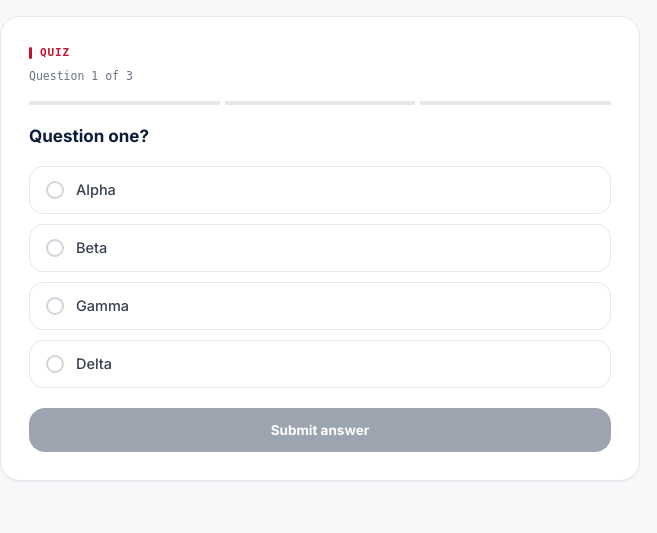
it: QuizWidget server-graded mode (t_79a92b83) › keeps the question open with an error when grading fails (no local key fallback)
The image size is (657, 533).
Step 1. Click the radio button labelled "Alpha" → (96, 190), box [29,166,611,214]
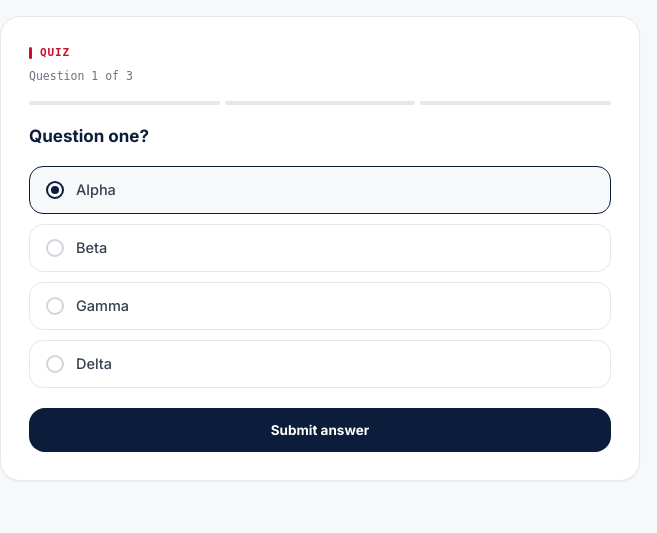
Step 2. Click the button "Submit answer" → (320, 430), box [29,408,611,452]
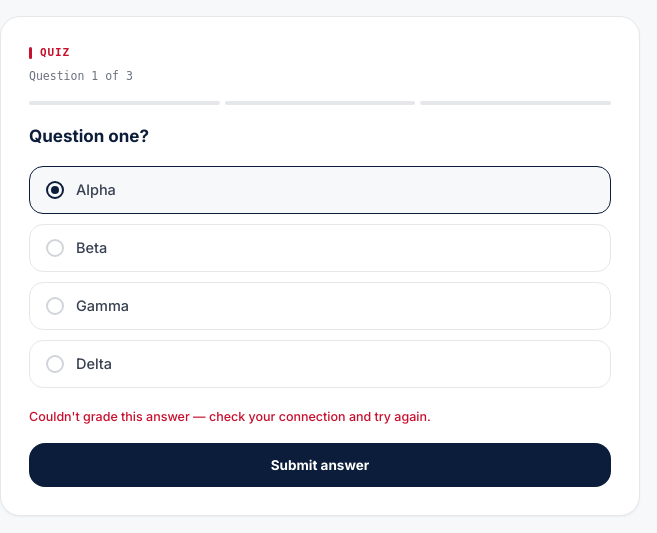
Expected: the button "Submit answer" is shown, [29,443,611,487]
Now the message shows "Couldn't grade", box [29,409,431,424]
